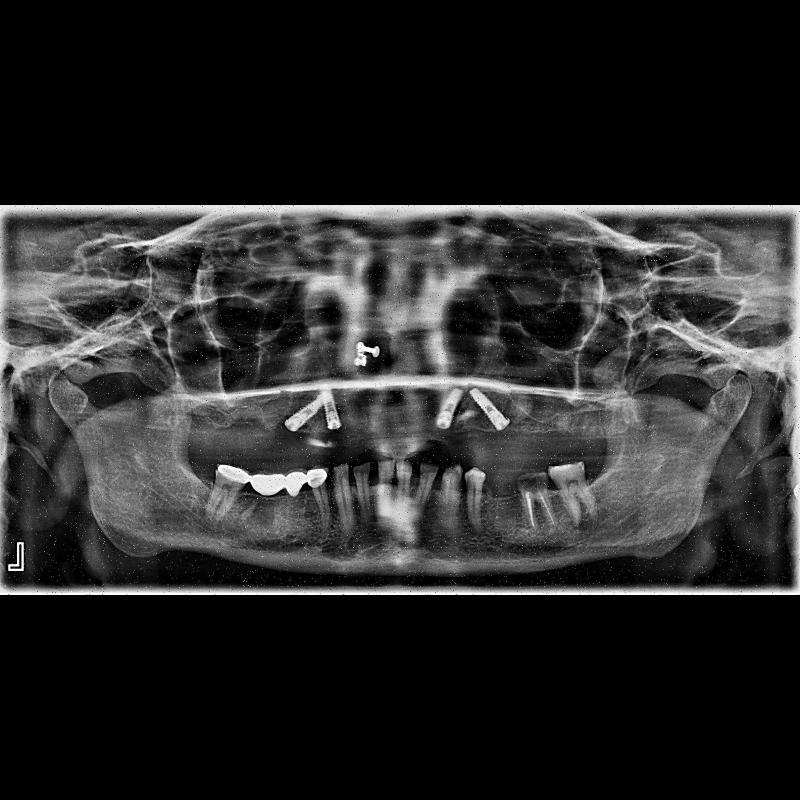osstem: (276, 391, 332, 444), (464, 384, 510, 434), (317, 380, 347, 438)
